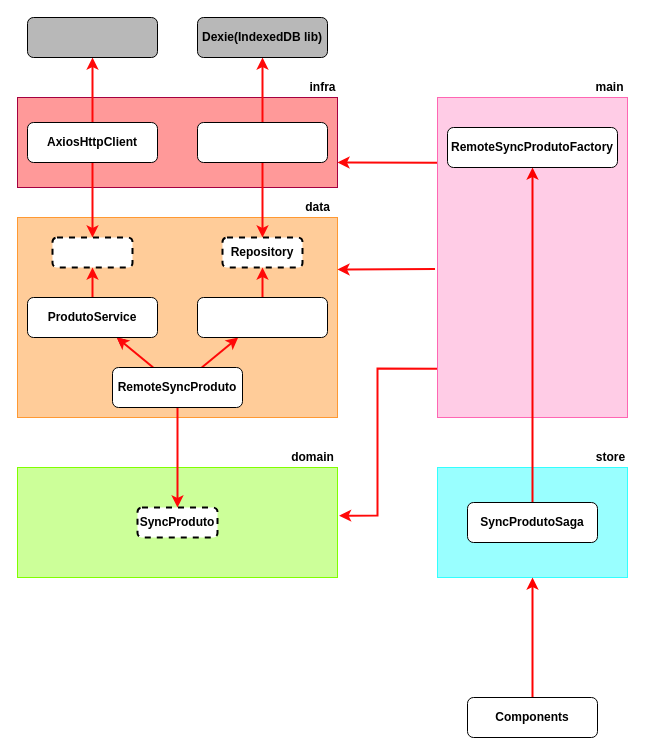
The diagram is 648 pixels wide and 755 high, and some of its shapes have lost their labels. Here are the shapes that lost their labels. From the top down, the centre of each, then its label:
the point at 92,37: Axios
the point at 262,142: DexieRepository
the point at 92,252: HttpClient
the point at 262,317: ProdutoRepository
